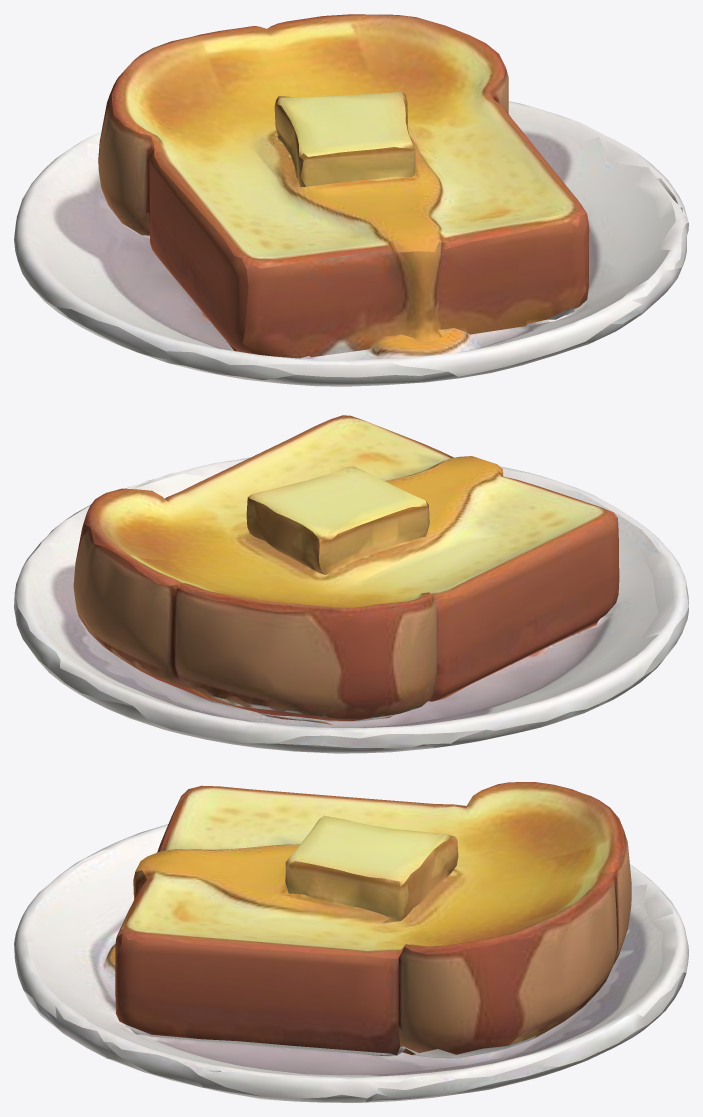
Rendered from honey_toast.glb.
3 renders of one model, top to bottom at view 1: azimuth 30°, elevation 25°; view 2: azimuth 150°, elevation 25°; view 3: azimuth 270°, elevation 25°, orthographic.
Visible parts, largest first — view 1: item_honey_toast; view 2: item_honey_toast; view 3: item_honey_toast.
Part boxes in pixels (<box>): item_honey_toast: <box>14,14,688,386</box>; item_honey_toast: <box>14,415,688,753</box>; item_honey_toast: <box>14,782,688,1102</box>.
Bounding box in the file's own units: 1 × 0.2456 × 0.998.
1 material, 1 textured.
